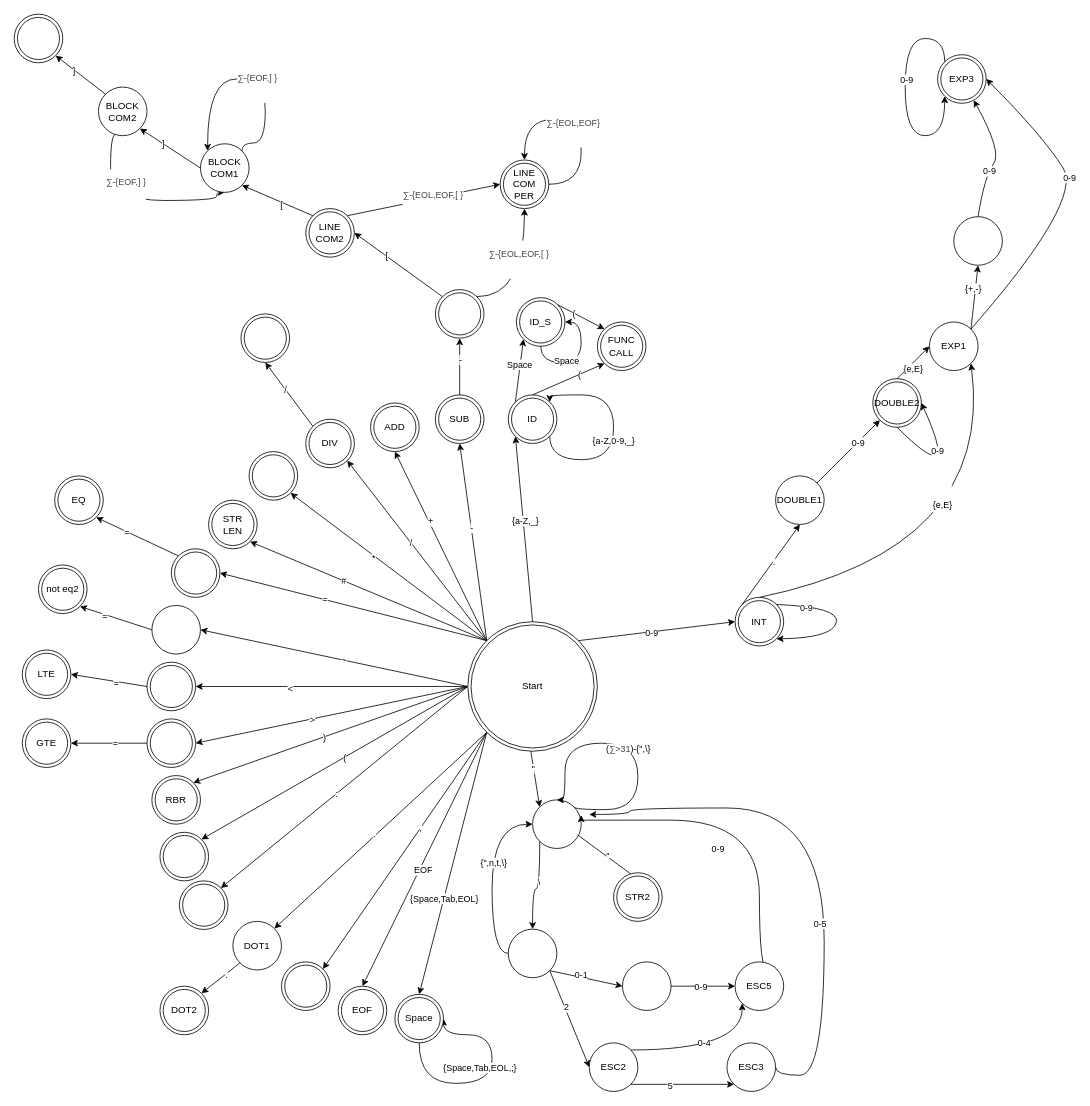
This 1090x1106 diagram has some shape labels left out. Here are the shapes that lost their labels. From the top down, the centre of each, then its label:
At (x=38, y=38): "BLOCK COM3".
At (x=977, y=240): "EXP2".
At (x=459, y=313): "LINE COM".
At (x=265, y=337): "DIV2".
At (x=273, y=475): "MUL".
At (x=195, y=572): "ASSIGEN".
At (x=175, y=629): "not eq1".
At (x=171, y=686): "LT".
At (x=171, y=742): "GT".
At (x=556, y=823): "STR1".
At (x=184, y=856): "LBR".
At (x=203, y=904): "COLON".
At (x=532, y=953): "ESC1".
At (x=305, y=985): "COMMA".
At (x=646, y=985): "ESC4".
